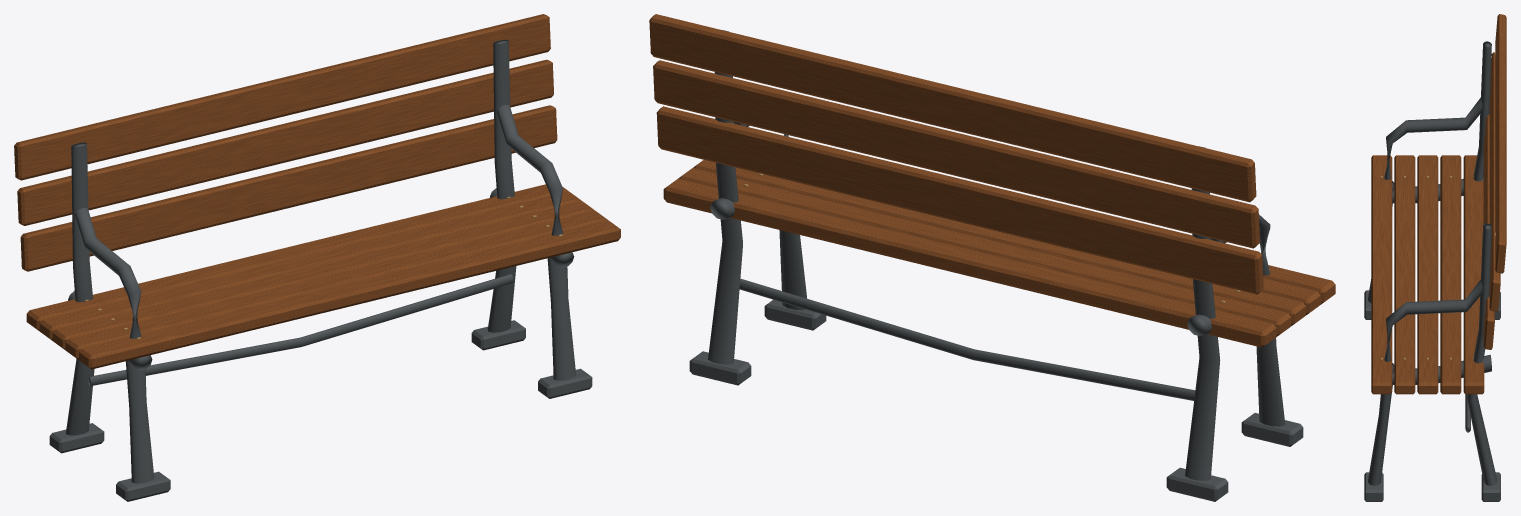
The model's file is bench.glb.
3 views of the same model, side by side, from view 1: azimuth 30°, elevation 25°; view 2: azimuth 150°, elevation 25°; view 3: azimuth 270°, elevation 25° (orthographic). The views are drawn at different scales.
Parts seen in each view (by area): view 1: bench; view 2: bench; view 3: bench.
Part boxes in pixels (box(x1,y1,x2,y2)): bench: box(14, 14, 620, 501); bench: box(649, 14, 1335, 501); bench: box(1364, 14, 1506, 501).
Bounding box in the file's own units: 1.72 × 0.96 × 0.45.
3 materials, 1 textured.
